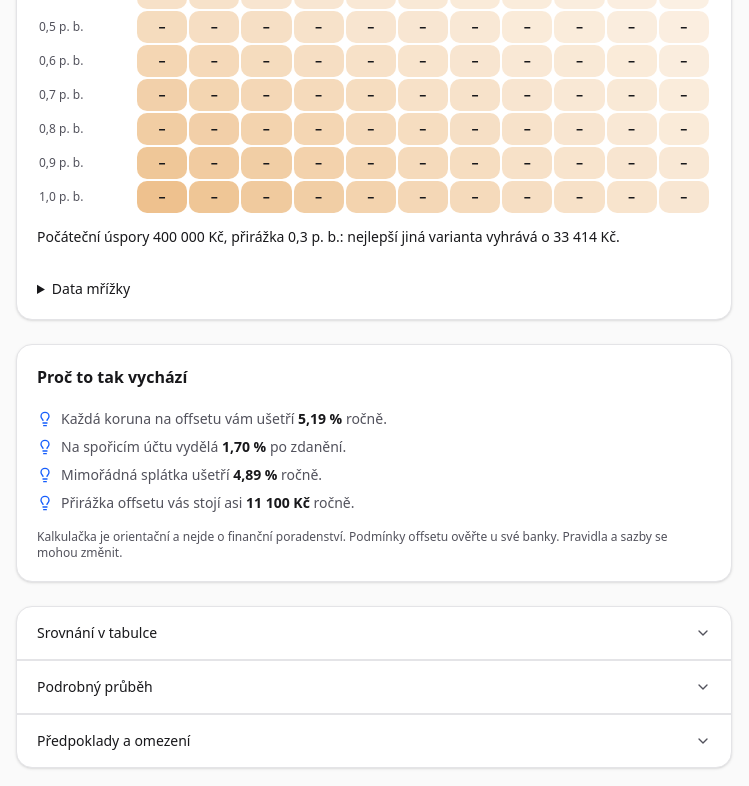
UI shows the golden verdict and net worth for pravidelne-sporeni
(page scrolled)
Click the button "Srovnání v tabulce" at {"x": 97, "y": 632}, box [37,607,711,659]
(page scrolled)
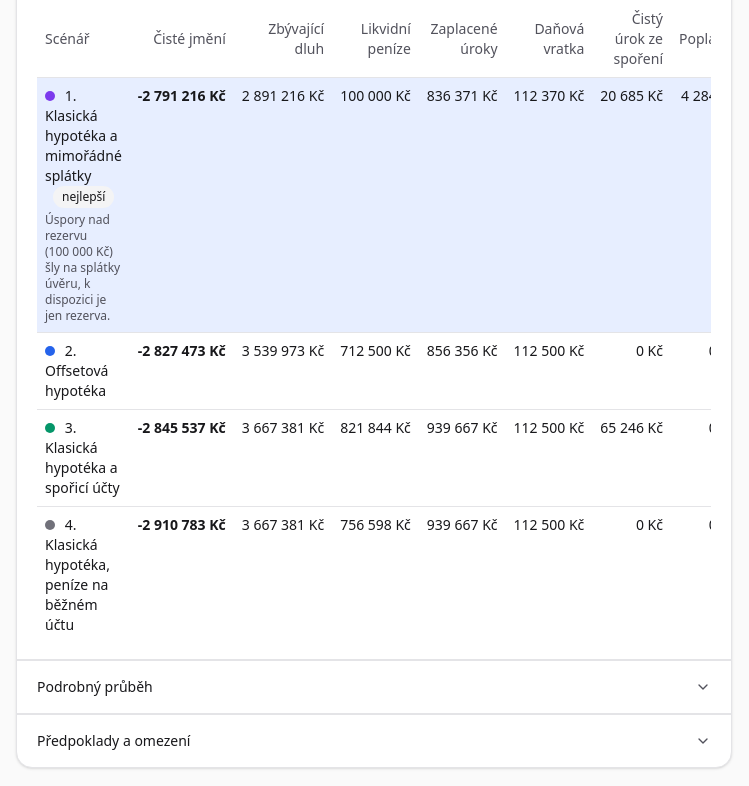
Result: the column heading that starts with "Klasická hypotéka a mimořádné splátky" is shown at [45,106,122,185]
Result: the column heading "2. Offsetová hypotéka" is shown at [37,333,130,410]
Result: the column heading "3. Klasická hypotéka a spořicí účty" is shown at [37,410,130,507]
